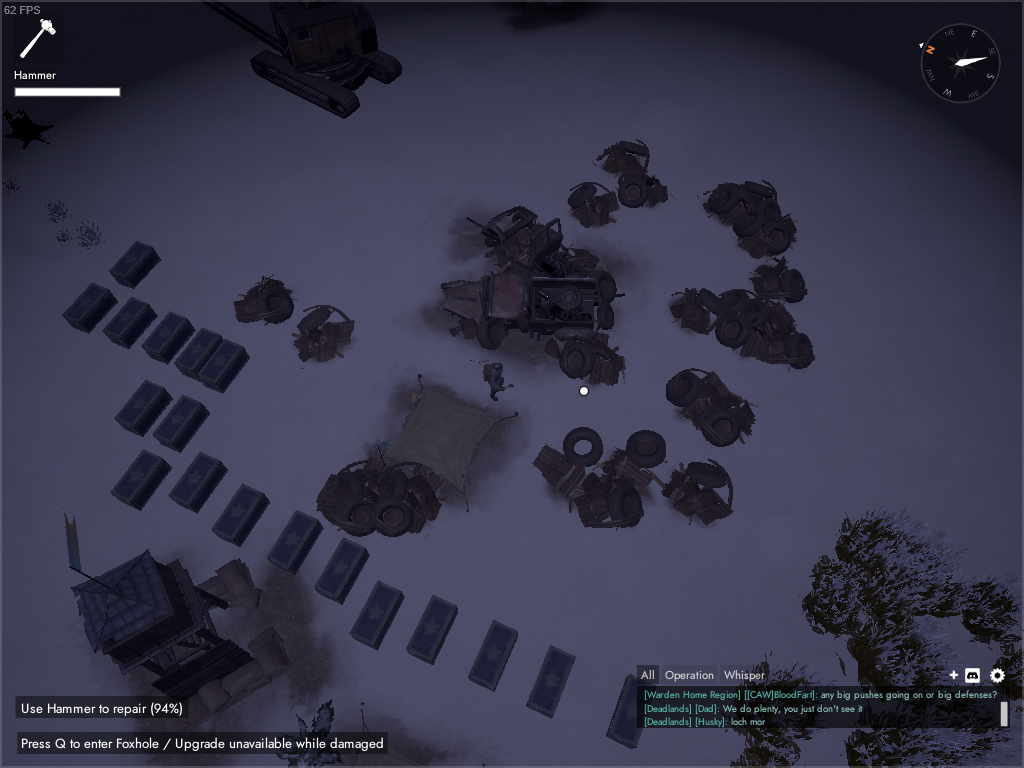crane: (208, 1, 404, 120)
foxhole: (374, 372, 521, 515), (294, 701, 489, 768)
player: (481, 361, 515, 402)
scrap: (667, 286, 816, 371), (314, 443, 442, 538), (580, 429, 667, 533), (698, 179, 800, 261), (663, 366, 758, 448), (588, 138, 672, 210), (531, 426, 608, 502), (661, 456, 737, 528), (544, 329, 628, 389), (292, 304, 357, 364), (233, 273, 297, 327), (747, 256, 810, 306), (566, 181, 621, 229)
scrapyard: (435, 204, 629, 353)
storage_box: (110, 448, 174, 513), (403, 594, 460, 665), (349, 581, 405, 651), (606, 673, 656, 751), (212, 483, 271, 549), (265, 510, 324, 576), (525, 645, 576, 720), (315, 538, 371, 606), (168, 452, 228, 515), (467, 620, 519, 692), (151, 395, 210, 454), (114, 379, 173, 437), (101, 296, 159, 351), (60, 281, 119, 335), (142, 311, 197, 366), (197, 338, 251, 394), (108, 240, 163, 290), (174, 327, 224, 382)
watchtower: (62, 509, 293, 727)
